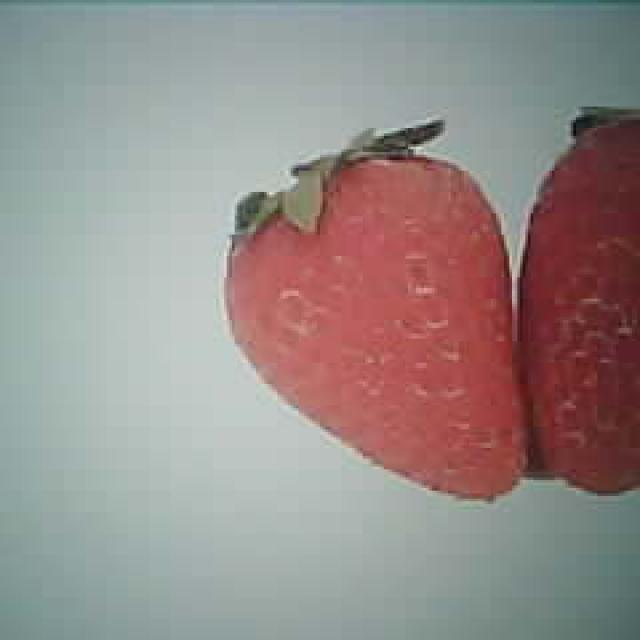strawberry: (221, 159, 528, 503)
